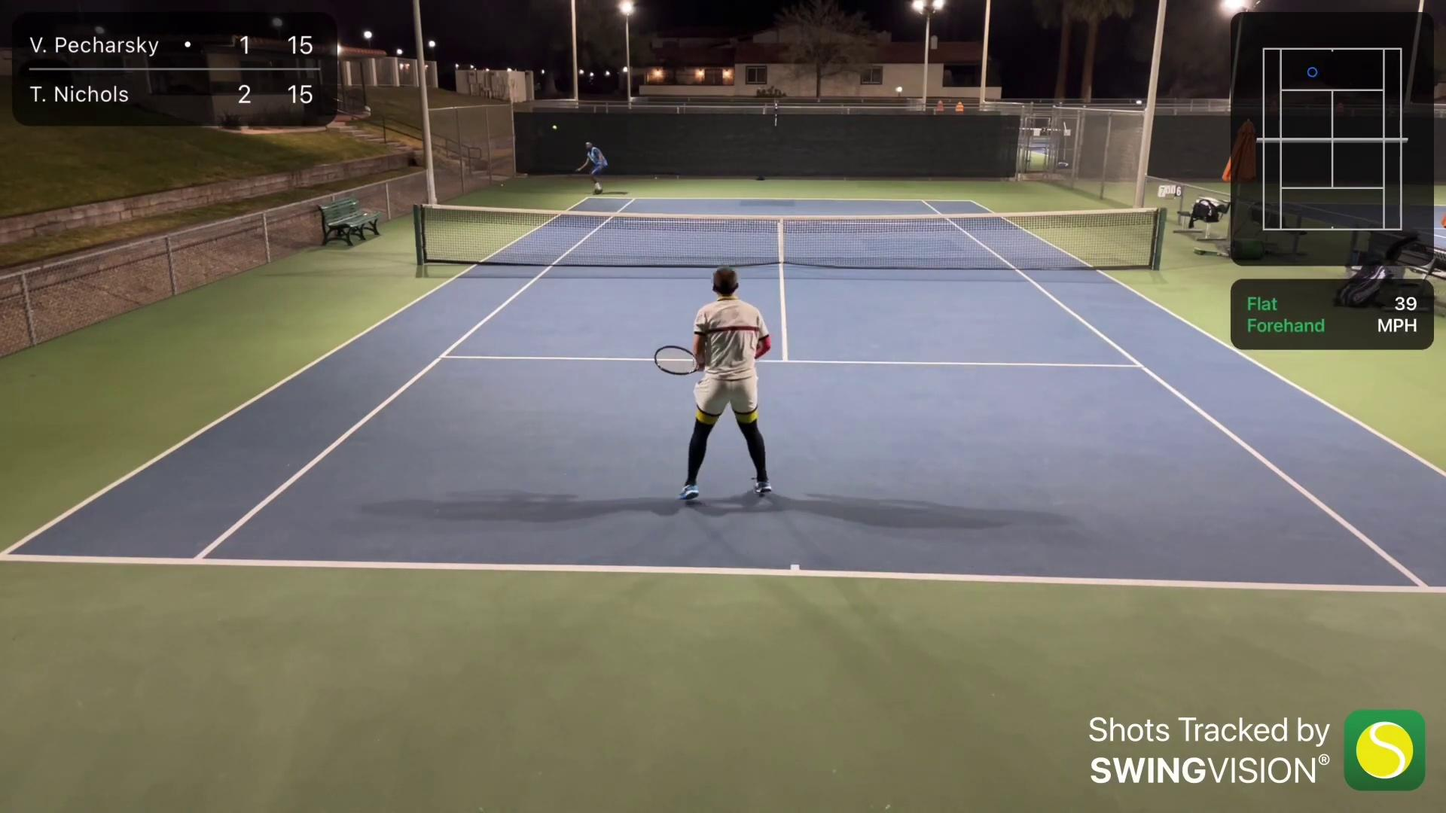ball: (551, 124, 558, 131)
